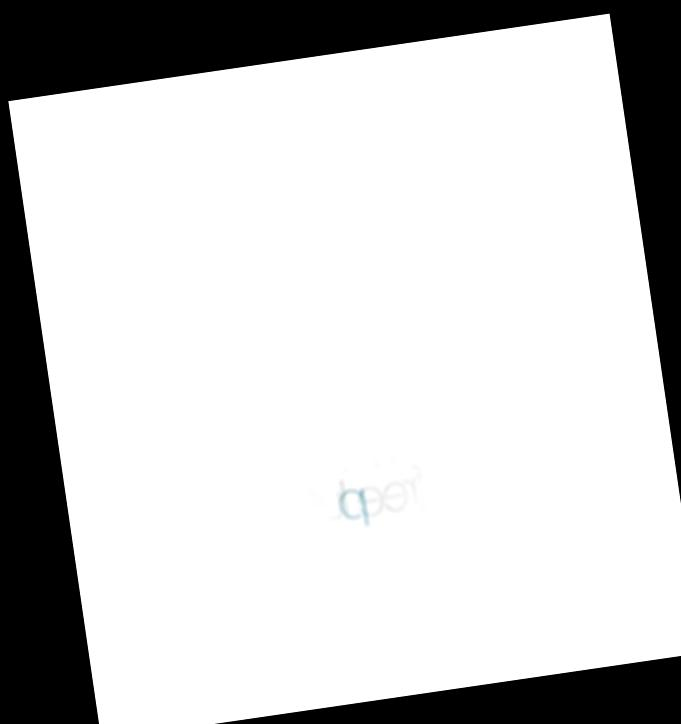cosmetic: (186, 79, 493, 666)
